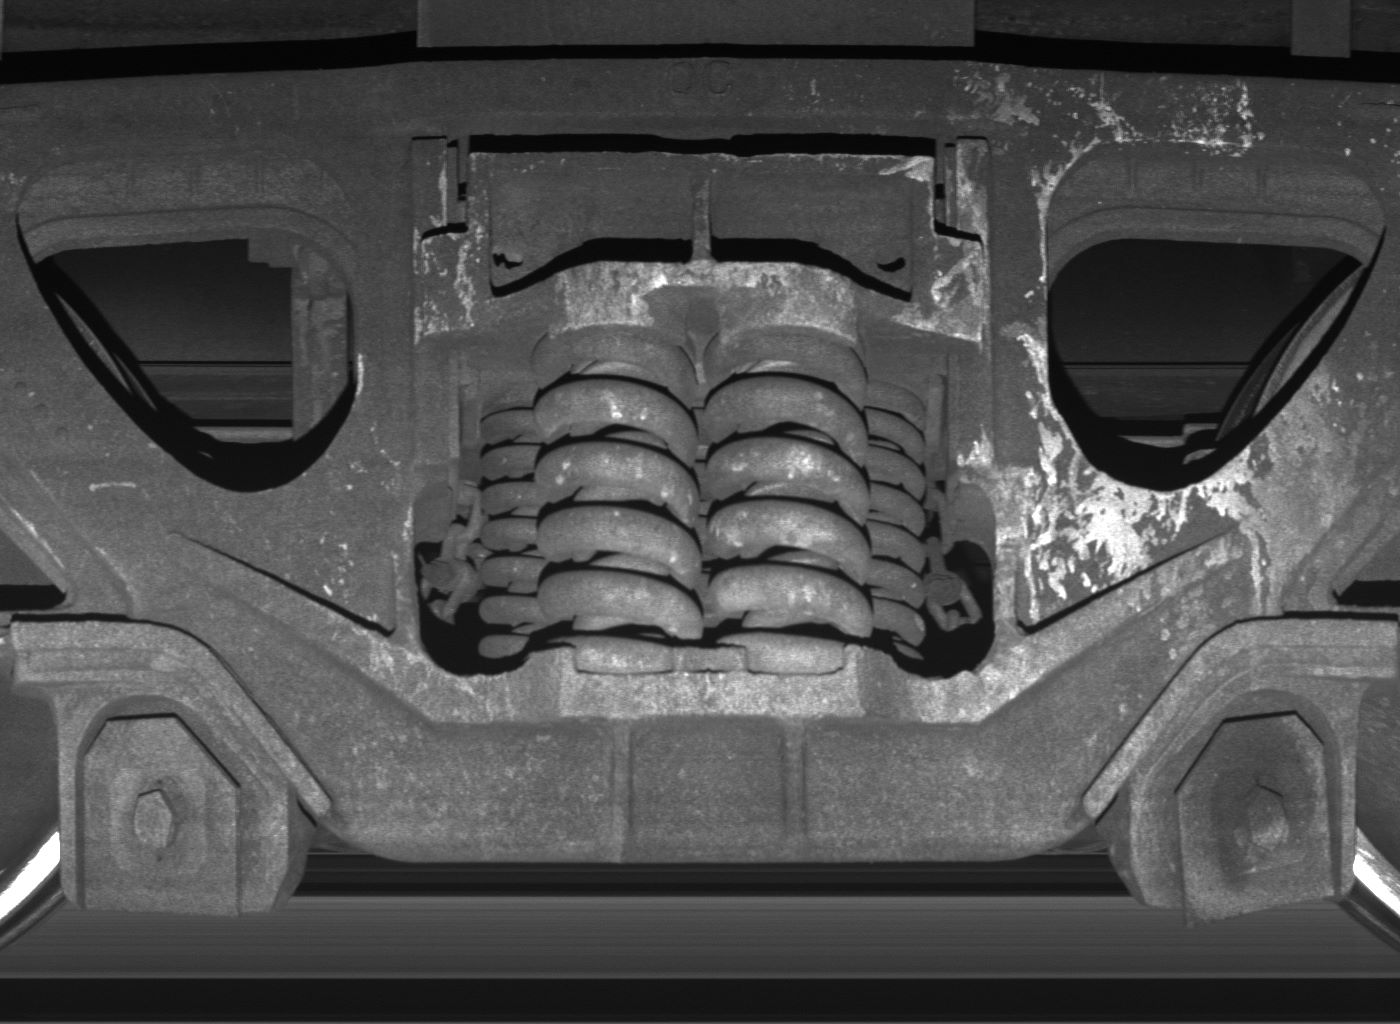locking plate: (1128, 689, 1358, 926)
normal: (57, 694, 295, 916)
